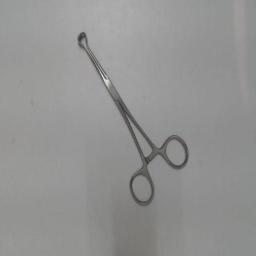Babcock Tissue Forceps: (76, 28, 192, 210)
